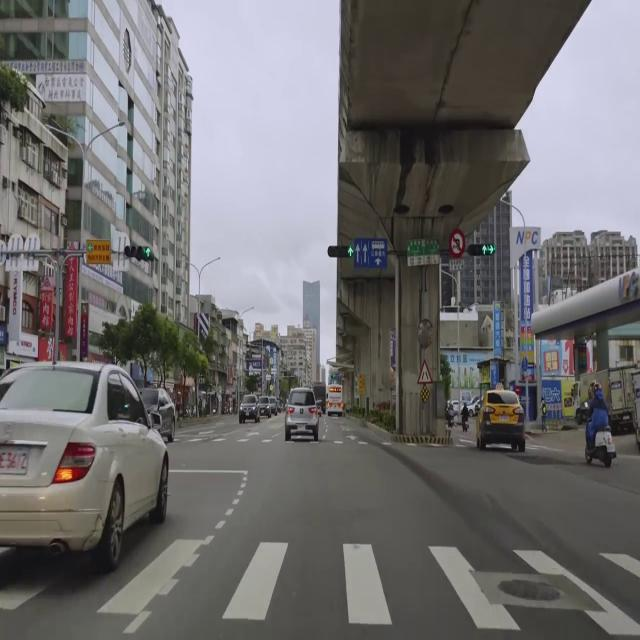green light: (327, 245, 355, 259), (124, 247, 152, 260), (468, 244, 496, 256)
